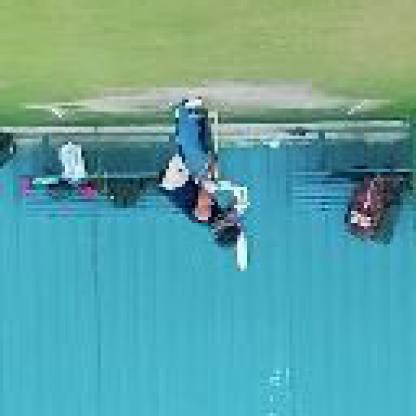ball: (265, 130, 285, 151)
